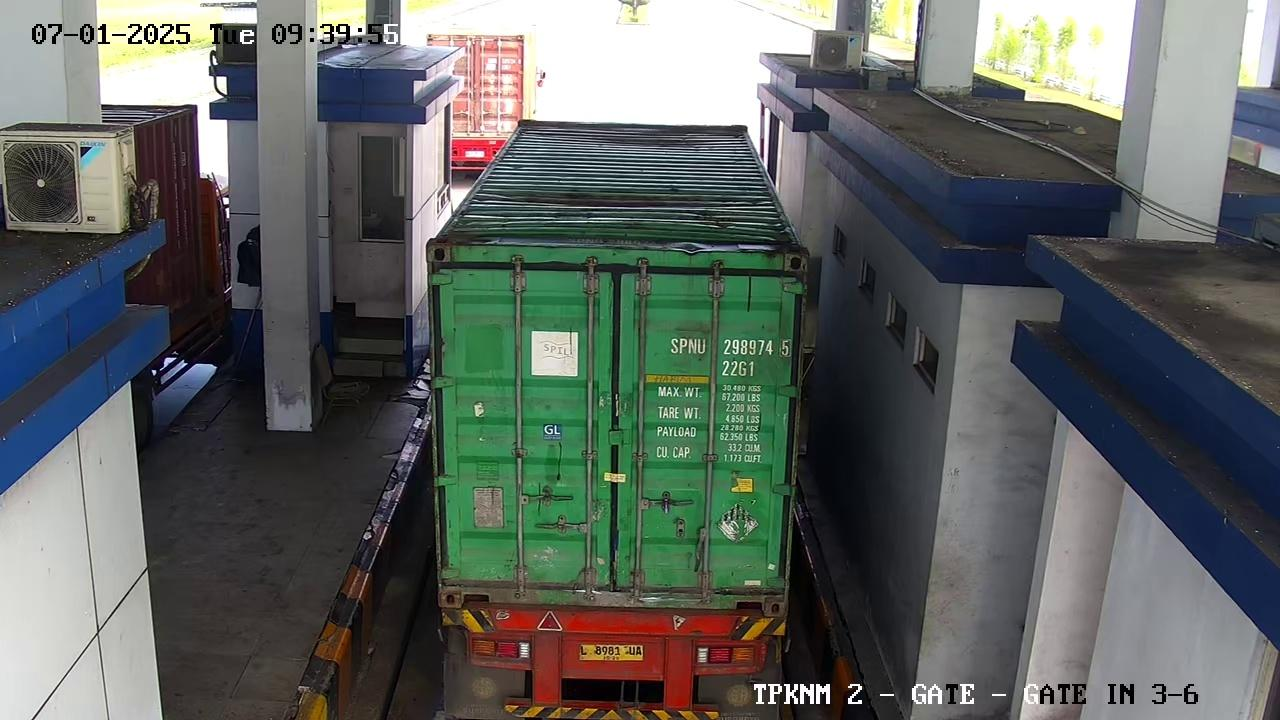Container_ID: (644, 330, 800, 361)
plate_number: (564, 639, 653, 669)
